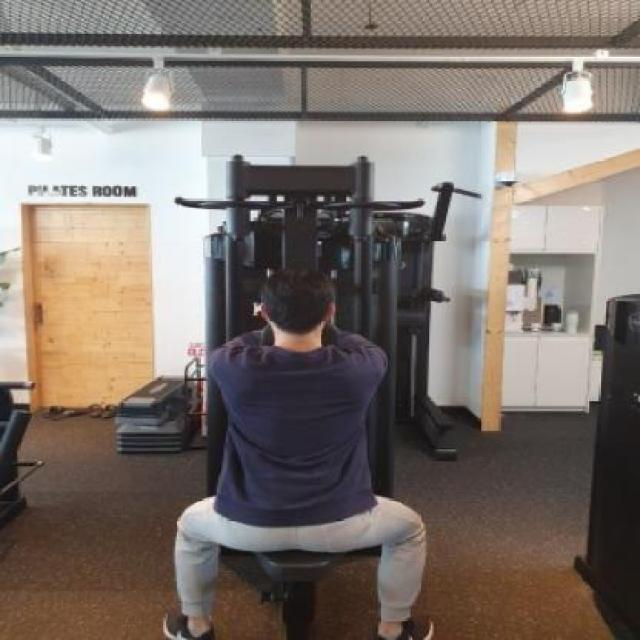chest fly machine: (99, 129, 486, 640)
